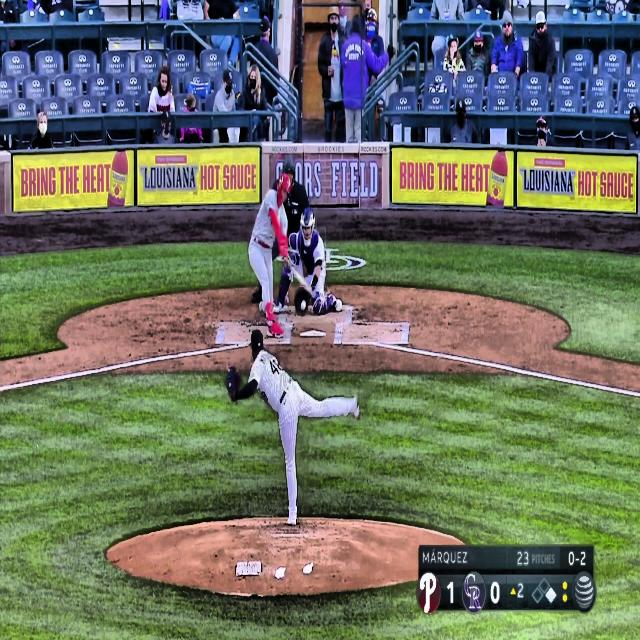baseball: (300, 298, 308, 313)
